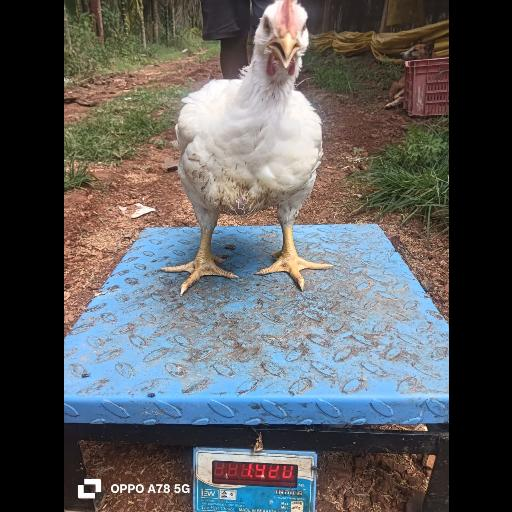chick: (166, 2, 325, 299)
